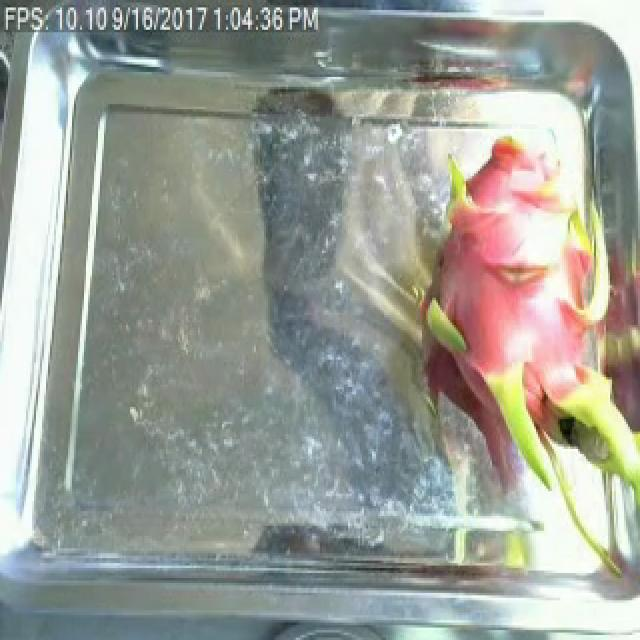fruit: (354, 134, 640, 561)
